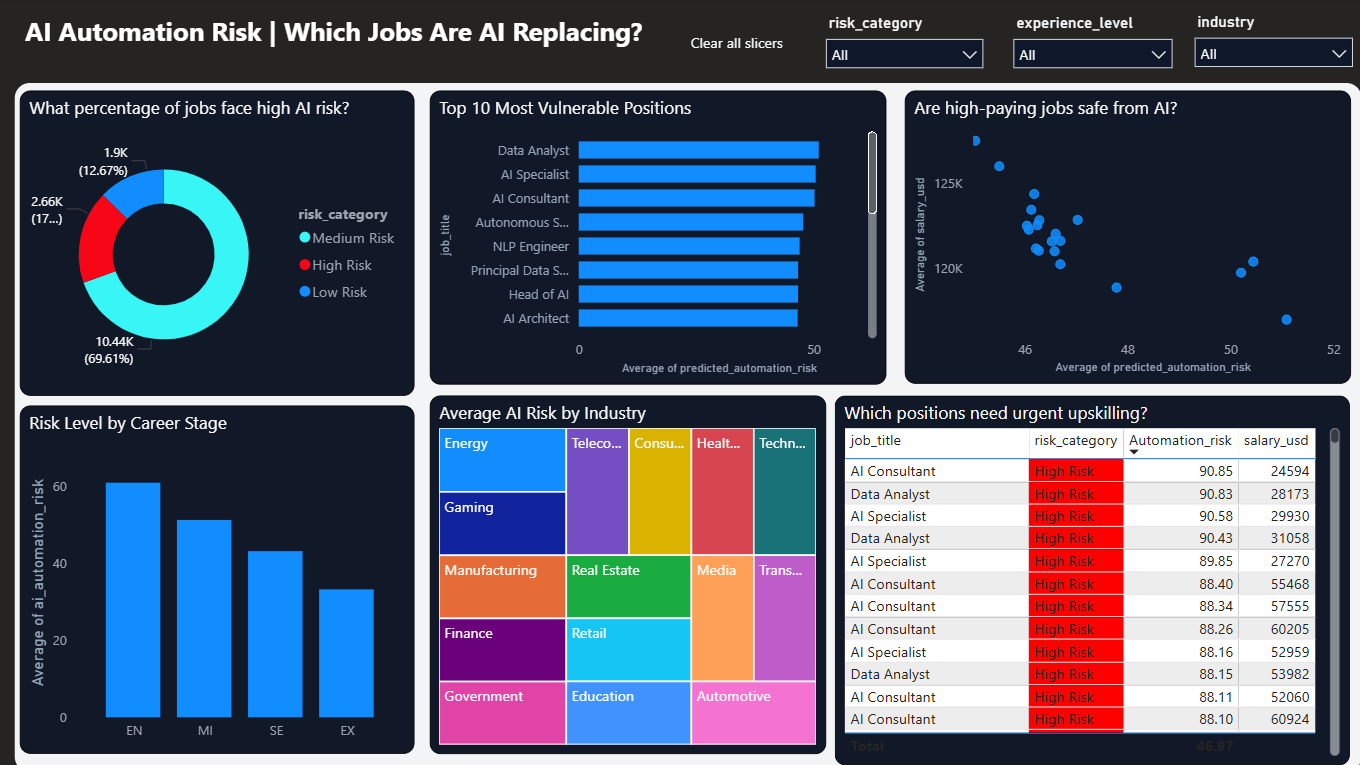

What the dashboard file says about the page in this screenshot:
{"tool":"powerbi","page":{"name":" AI Automation Risk","canvas":[1280,720],"ordinal":3},"visuals":[{"type":"shape","box":[18,79.6,1253,640.6],"z":0},{"type":"textbox","box":[21.6,9.3,619.2,63.3],"z":1000},{"type":"actionButton","box":[617.6,26.2,143.6,29.3],"z":2000},{"type":"slicer","fields":{"Values":["ai_jobs_predictions_final.risk_category"]},"box":[761.2,9.3,166.8,75.7],"z":3000},{"type":"slicer","fields":{"Values":["ai_jobs_predictions_final.industry"]},"box":[1104.1,8.7,167.5,76.9],"z":4000},{"type":"slicer","fields":{"Values":["ai_jobs_predictions_final.experience_level"]},"box":[935.7,9.3,168.3,75.7],"z":5000},{"type":"donutChart","title":"What percentage of jobs face high AI risk?","fields":{"Category":["ai_jobs_predictions_final.risk_category"],"Y":["CountNonNull(ai_jobs_predictions_final.job_id)"]},"box":[21.8,86,367.2,283.7],"z":6000},{"type":"tableEx","title":"Which positions need urgent upskilling?","fields":{"Values":["ai_jobs_predictions_final.job_title","ai_jobs_predictions_final.risk_category","Avg(ai_jobs_predictions_final.predicted_automation_risk)","ai_jobs_predictions_final.salary_usd"]},"box":[780.6,369.7,478.9,344.1],"z":7000},{"type":"treemap","title":"Average AI Risk by Industry","fields":{"Group":["ai_jobs_predictions_final.industry"],"Values":["Avg(ai_jobs_predictions_final.ai_automation_risk)"]},"box":[403.1,369.7,368.5,333.8],"z":8000},{"type":"scatterChart","title":"Are high-paying jobs safe from AI?","fields":{"X":["Avg(ai_jobs_predictions_final.predicted_automation_risk)"],"Y":["Avg(ai_jobs_predictions_final.salary_usd)"],"Category":["ai_jobs_predictions_final.job_title"]},"box":[845,86.3,414.9,272.8],"z":9000},{"type":"clusteredColumnChart","title":"Risk Level by Career Stage","fields":{"Category":["ai_jobs_predictions_final.experience_level"],"Y":["Avg(ai_jobs_predictions_final.ai_automation_risk)"]},"box":[22.1,378.8,367.1,324.3],"z":10000},{"type":"barChart","title":"Top 10 Most Vulnerable Positions","fields":{"Y":["Avg(ai_jobs_predictions_final.predicted_automation_risk)"],"Category":["ai_jobs_predictions_final.job_title"]},"box":[403.1,86,425,273.5],"z":11000}]}

Visuals, with their boxes in screenshot pixels (x1, y1, x2, y2), scaled from the page's 1280x720 canvas onto the 1360x765 screenshot:
shape: Rect(19, 85, 1350, 764)
textbox: Rect(23, 10, 681, 77)
actionButton: Rect(656, 28, 809, 59)
slicer - ai_jobs_predictions_final.risk_category: Rect(809, 10, 986, 90)
slicer - ai_jobs_predictions_final.industry: Rect(1173, 9, 1351, 91)
slicer - ai_jobs_predictions_final.experience_level: Rect(994, 10, 1173, 90)
"What percentage of jobs face high AI risk?" donutChart: Rect(23, 91, 413, 393)
"Which positions need urgent upskilling?" tableEx: Rect(829, 393, 1338, 758)
"Average AI Risk by Industry" treemap: Rect(428, 393, 820, 747)
"Are high-paying jobs safe from AI?" scatterChart: Rect(898, 92, 1339, 382)
"Risk Level by Career Stage" clusteredColumnChart: Rect(23, 402, 414, 747)
"Top 10 Most Vulnerable Positions" barChart: Rect(428, 91, 880, 382)
